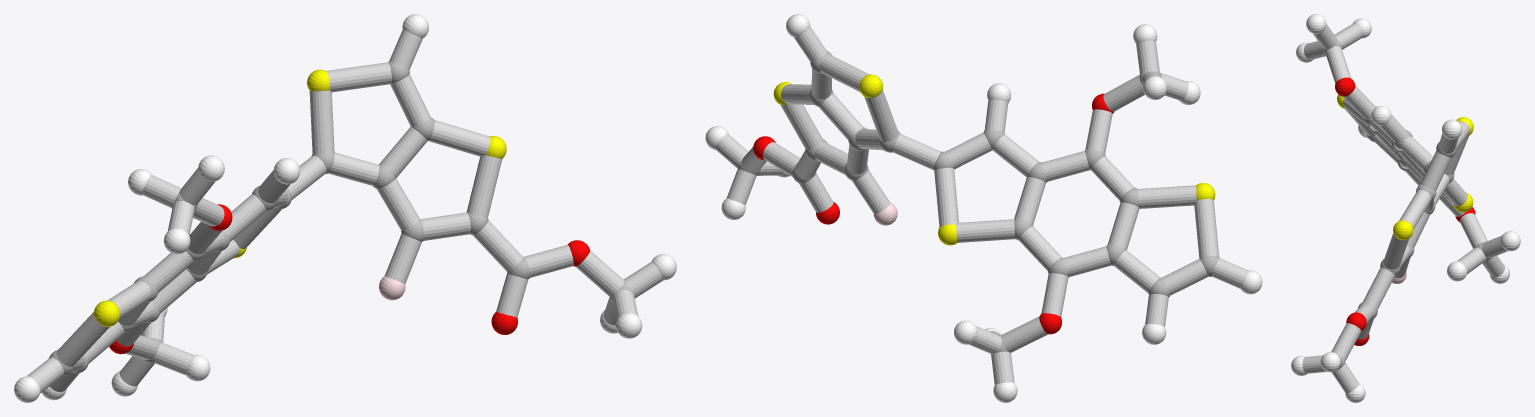
File: color.glb
The picture shows the model from 3 angles, left to right: view 1: azimuth 30°, elevation 25°; view 2: azimuth 150°, elevation 25°; view 3: azimuth 270°, elevation 25°; orthographic projection. The views are drawn at different scales.
Parts seen in each view (by area): view 1: grp15205, grp8689, grp1, grp7241, grp13395; view 2: grp15205, grp8689, grp1, grp7241, grp13395; view 3: grp15205, grp8689, grp1, grp13395, grp7241.
Boxes of the visible parts, x1,y1,x2,y2 form: grp15205: (27,30,663,393); grp8689: (14,14,676,402); grp1: (49,61,631,375); grp7241: (93,69,506,326); grp13395: (109,204,590,354); grp15205: (715,26,1247,384); grp8689: (705,14,1262,402); grp1: (738,51,1219,352); grp7241: (773,74,1215,245); grp13395: (753,93,1113,334); grp15205: (1302,23,1507,393); grp8689: (1291,14,1520,402); grp1: (1322,39,1491,367); grp13395: (1335,77,1475,345); grp7241: (1337,94,1473,240).
Size of the model in its own units: 16.44 by 8.41 by 6.75.
